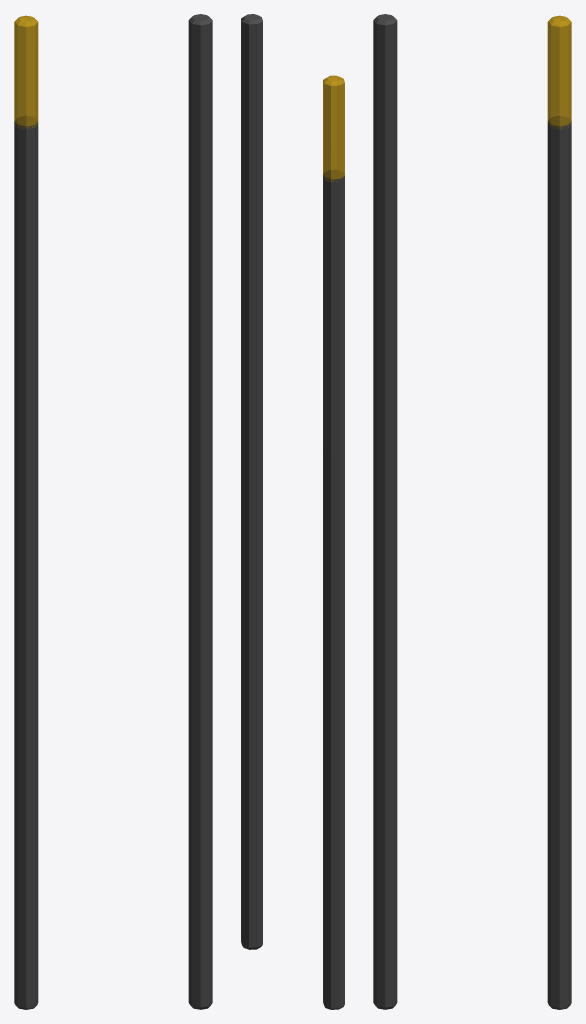
Rendered from Incense.fbx.
3 renders of one model, left to right at view 1: azimuth 90°, elevation 25°; view 2: azimuth 210°, elevation 25°; view 3: azimuth 270°, elevation 25°, orthographic. The views are drawn at different scales.
Parts seen in each view (by area): view 1: pasted__pCylinder1 (×2), pCylinder1; view 2: pasted__pCylinder1 (×2), pCylinder1; view 3: pasted__pCylinder1 (×2), pCylinder1.
Part boxes in pixels (x1,y1,x2,y2): pasted__pCylinder1 (×2): (14, 14, 212, 1009); pCylinder1: (14, 116, 38, 1009); pasted__pCylinder1 (×2): (241, 14, 344, 949); pCylinder1: (323, 170, 344, 1009); pasted__pCylinder1 (×2): (373, 14, 571, 1009); pCylinder1: (547, 116, 571, 1009).
Bounding box in the file's own units: 0.4 × 18 × 3.28.
